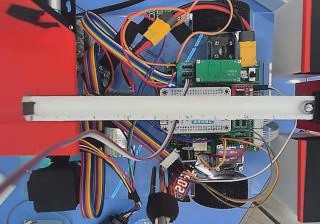ironball: (301, 101, 313, 112)
